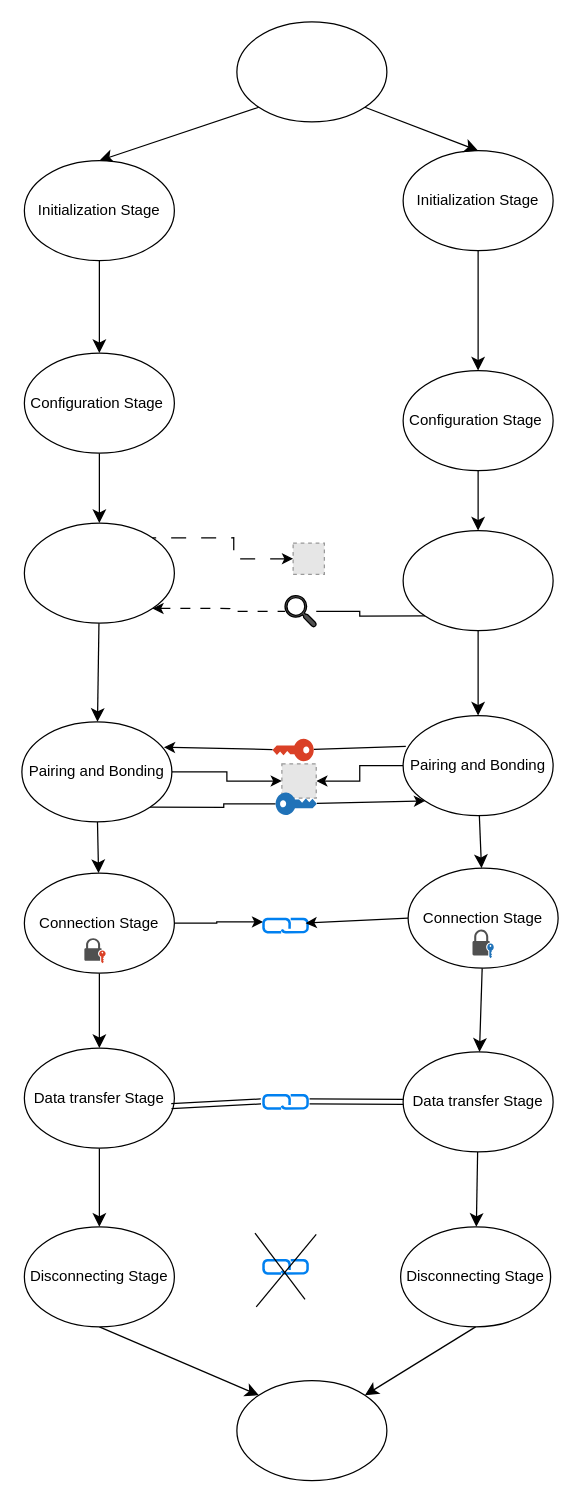
The diagram is 580 pixels wide and 1503 high, and some of its shapes have lost their labels. Grey dashed boxes stand in for pictures. The shapes that lost their labels are listed below. From the top down, each one's box as (x1, y1, x2, y2) in pixels, then its label:
(236, 21, 387, 122): Standby
(23, 522, 174, 623): Advertising Stage
(402, 529, 553, 631): Discovering Stage
(236, 1379, 387, 1481): Standby/Low-Power Mode
